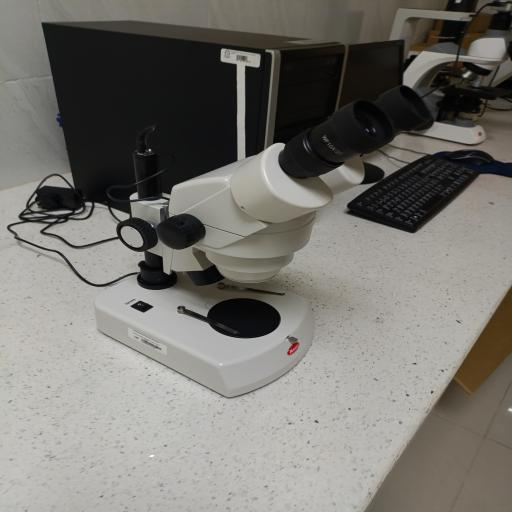Microscopio_estereo: (87, 76, 448, 413)
